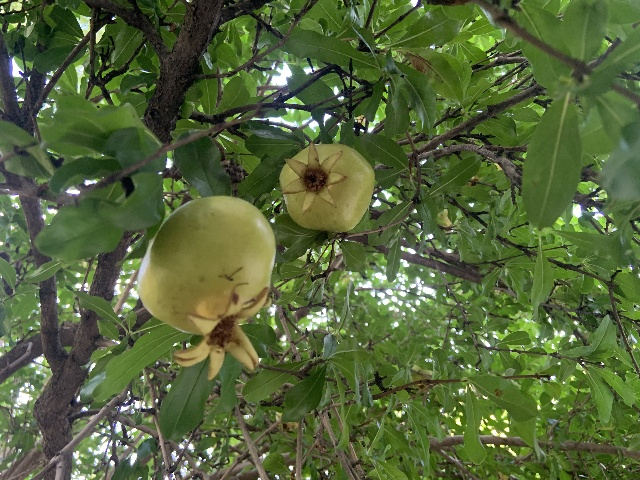mid-growth: (137, 195, 277, 380), (279, 142, 374, 232), (410, 365, 432, 390)
